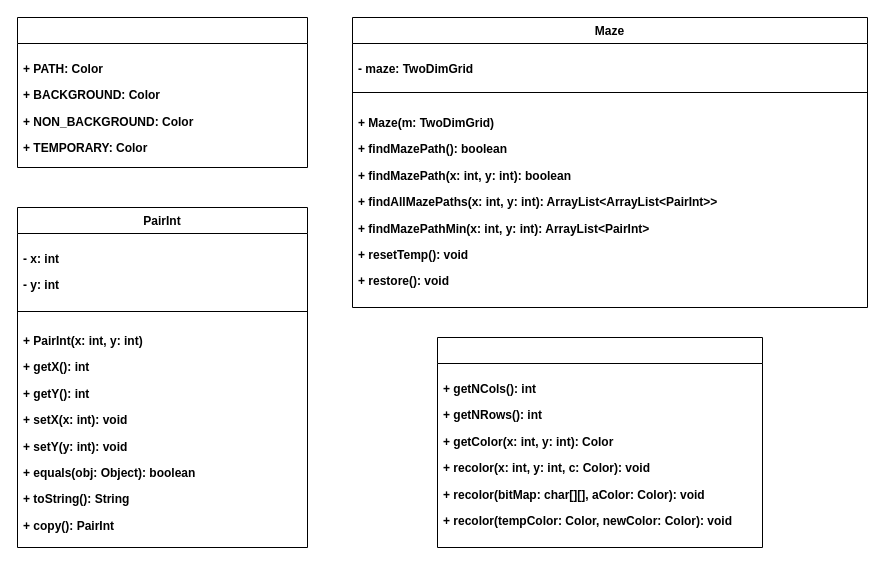
The diagram is 885 pixels wide and 568 high, and some of its shapes have lost their labels. Each missing label, with the box of its shape:
GridColors: (16, 16, 308, 168)
TwoDimGrid: (436, 336, 762, 548)
